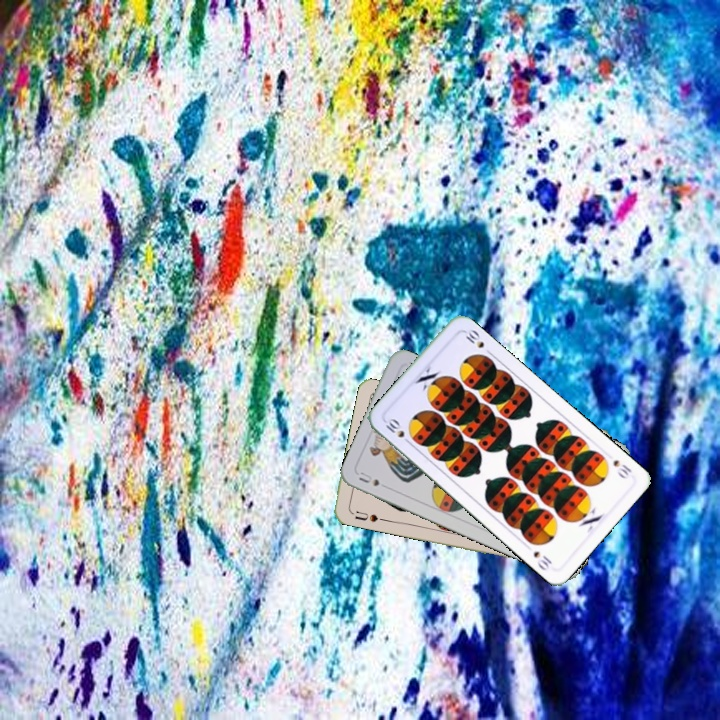S10: (381, 414, 414, 448), (609, 456, 634, 481)
SU: (347, 507, 387, 525), (355, 468, 382, 489)
